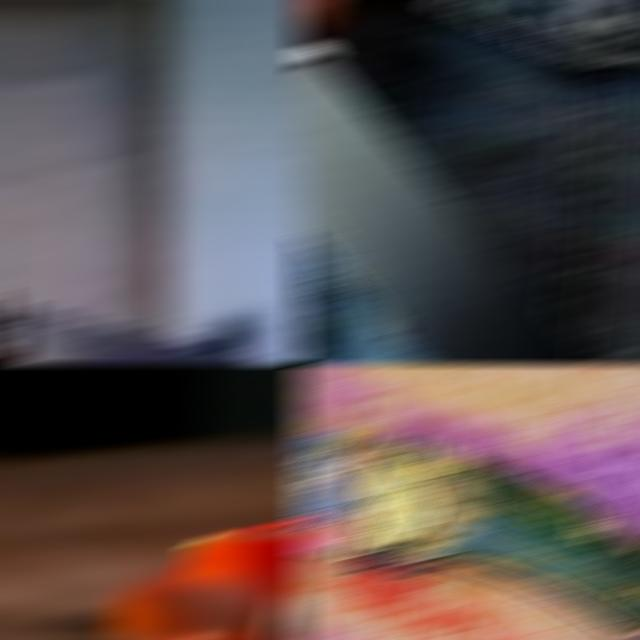Knife: (293, 11, 592, 362)
Knife_Handle: (0, 366, 307, 638), (0, 236, 290, 362)
